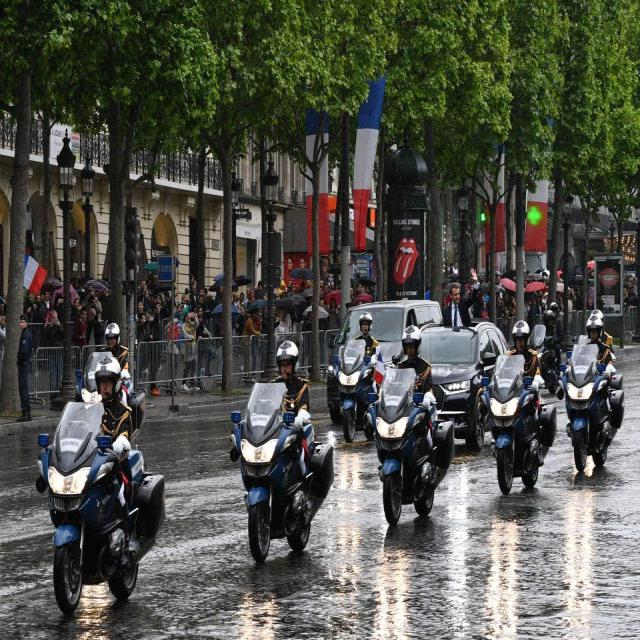body: (23, 247, 384, 405), (422, 254, 640, 341), (65, 356, 134, 558), (255, 339, 315, 505), (385, 324, 434, 408), (564, 314, 613, 380), (528, 307, 557, 401), (441, 267, 481, 330), (504, 318, 542, 380), (16, 315, 34, 424), (240, 304, 262, 385), (180, 310, 201, 393), (98, 321, 130, 372), (350, 309, 380, 356), (548, 300, 566, 378), (590, 306, 616, 356), (0, 294, 8, 375)
